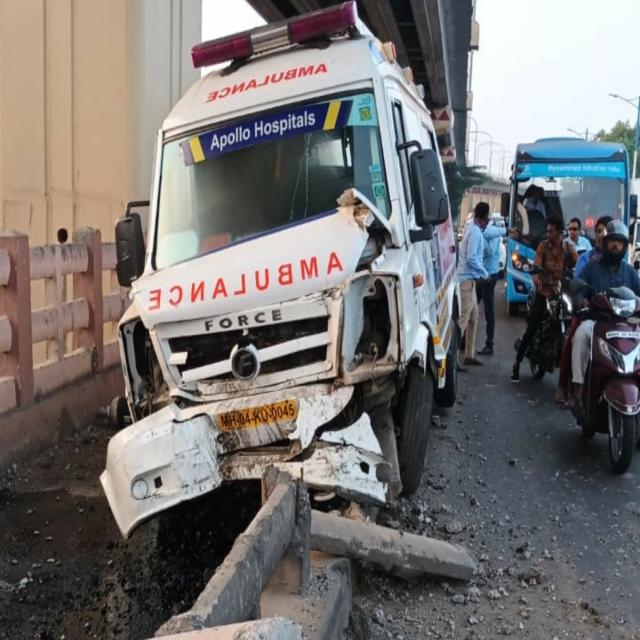accident: (101, 3, 459, 537)
bus: (506, 138, 630, 312)
motorcycle: (570, 220, 640, 473)
